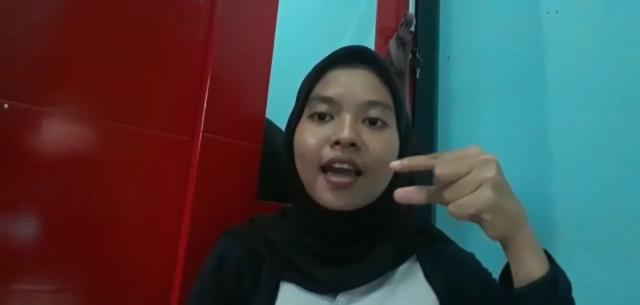G: (388, 146, 522, 238)
